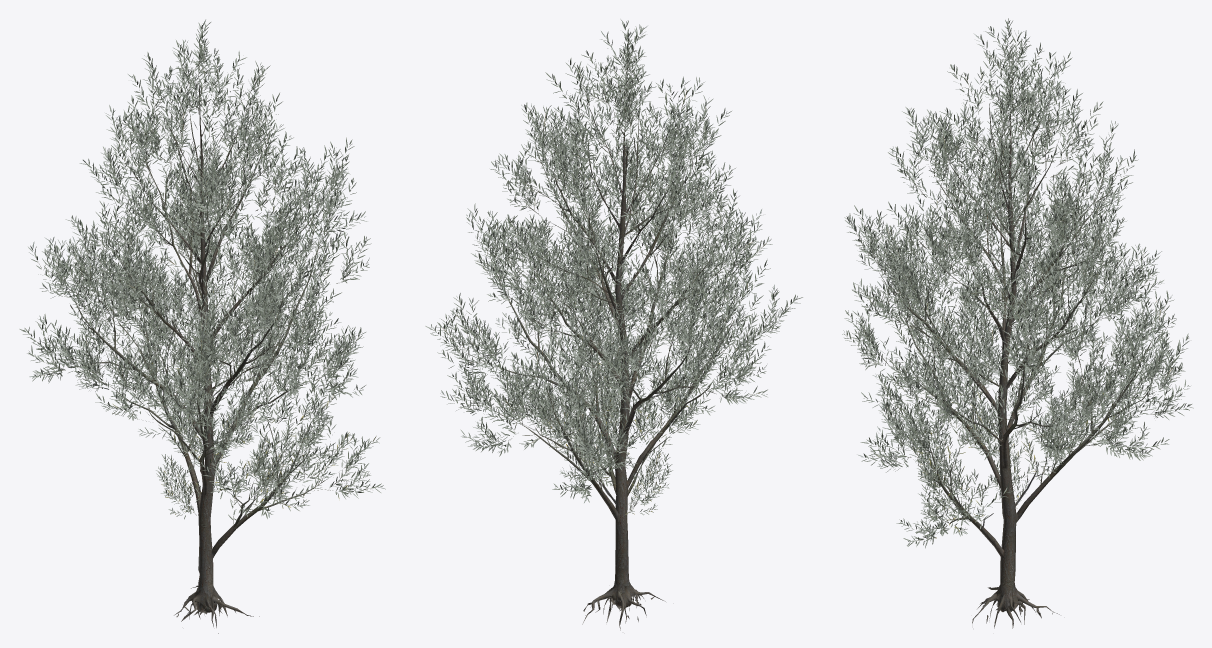
File: salix-alba-ld-s11-proof.glb
3 renders of one model, left to right at view 1: azimuth 30°, elevation 25°; view 2: azimuth 150°, elevation 25°; view 3: azimuth 270°, elevation 25°, orthographic.
Parts seen in each view (by area): view 1: ForestPlantCatalog_salix-alba-ld-s11; view 2: ForestPlantCatalog_salix-alba-ld-s11; view 3: ForestPlantCatalog_salix-alba-ld-s11.
Boxes of the visible parts, box(x1,y1,x2,y2) form: ForestPlantCatalog_salix-alba-ld-s11: box(19, 19, 385, 633); ForestPlantCatalog_salix-alba-ld-s11: box(425, 19, 802, 630); ForestPlantCatalog_salix-alba-ld-s11: box(842, 18, 1193, 628).
Bounding box in the file's own units: 8.74 × 15.5 × 8.31.
Materials: 12 (12 with a texture image).
